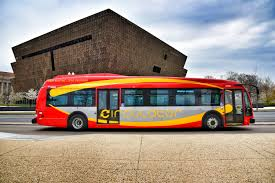bus: (32, 71, 260, 133)
